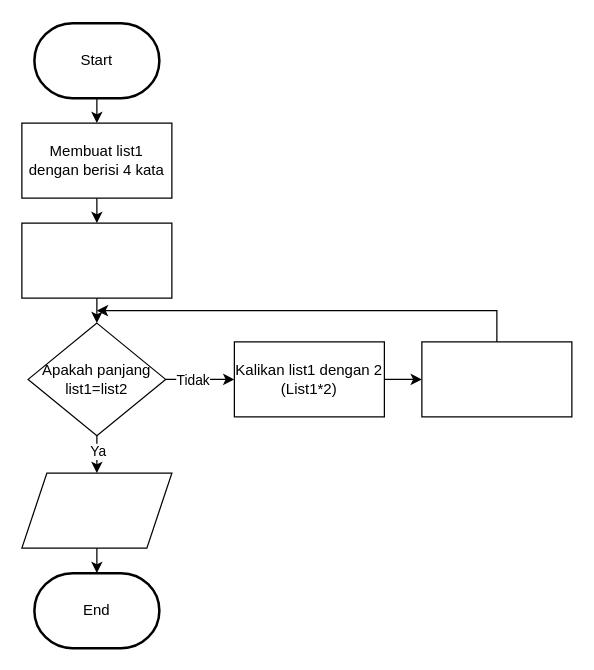
This 594x670 diagram has some shape labels left out. The shapes that lost their labels are listed below. From the top down, each one's box as (x1, y1, x2, y2) in pixels, then its label:
(21, 222, 172, 298): Membuat list2 dan dikosongkan
(421, 341, 572, 417): Tambahkan hasilnya ke list2
(21, 472, 172, 548): Cetak List1 dan list2
